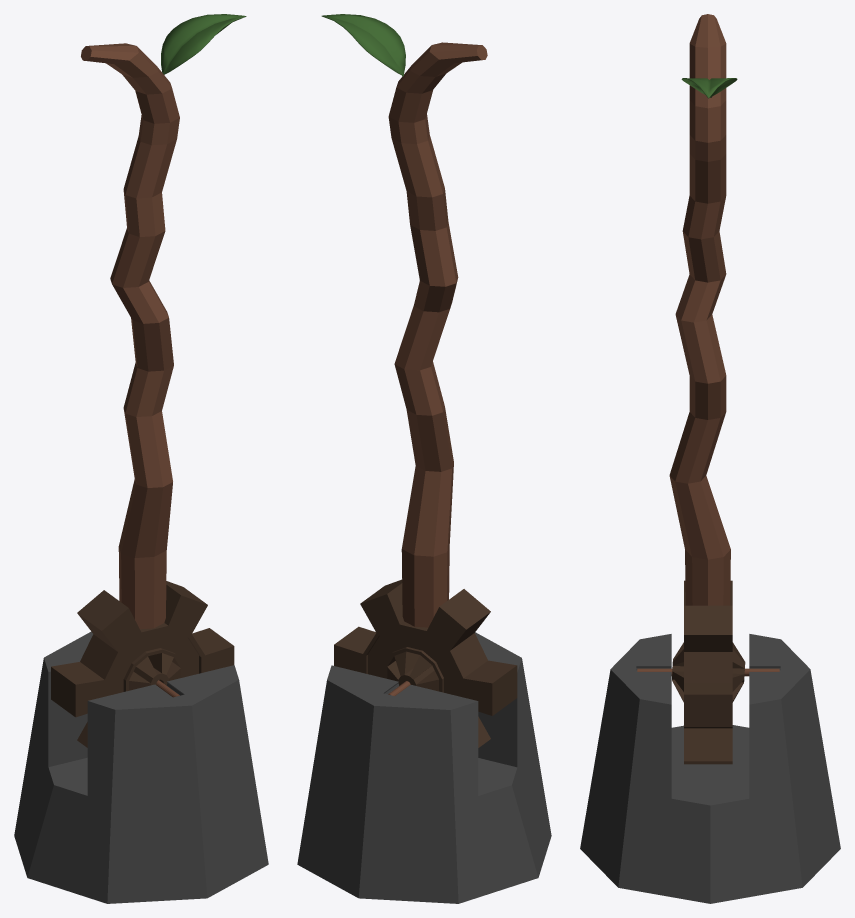
File: levier1-3.fbx
The picture shows the model from 3 angles, left to right: view 1: azimuth 30°, elevation 25°; view 2: azimuth 150°, elevation 25°; view 3: azimuth 270°, elevation 25°; orthographic projection.
Parts seen in each view (by area): view 1: tronc; view 2: tronc; view 3: tronc.
Part boxes in pixels (x1,y1,x2,y2): tronc: [14, 14, 268, 903]; tronc: [297, 14, 551, 903]; tronc: [580, 14, 840, 903].
Size of the model in its own units: 938 by 3211 by 938.
